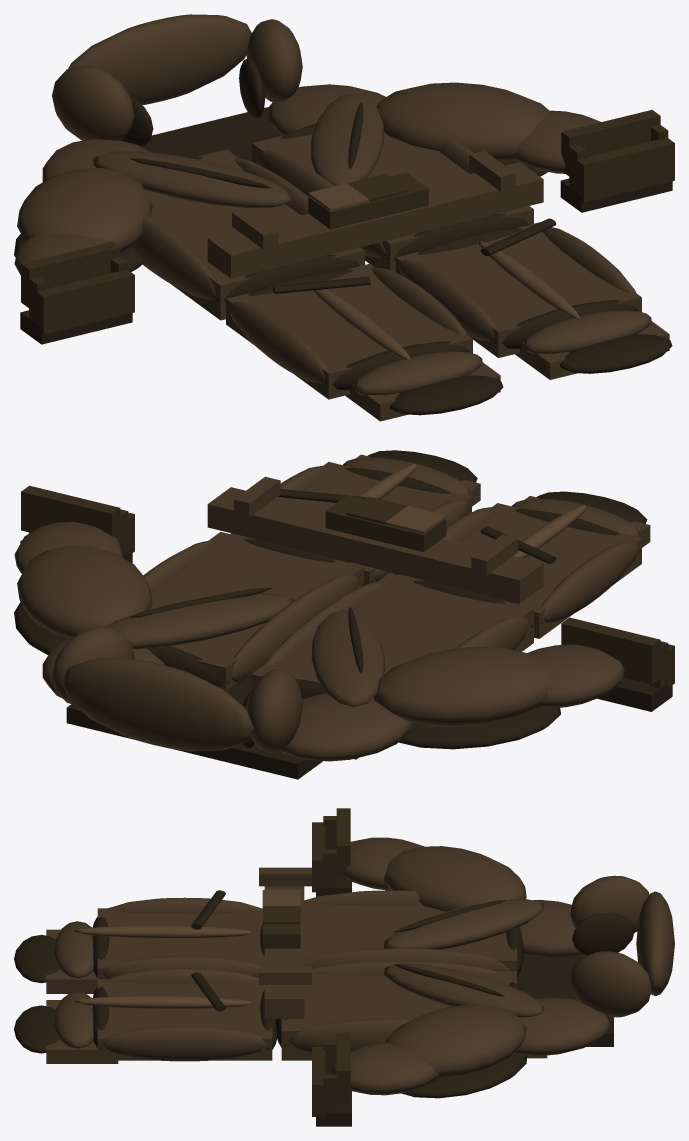
Rendered from CMU3DCivilianBrownTrenchCoatWorldCloud.glb.
3 views of the same model, one above another, from view 1: azimuth 30°, elevation 25°; view 2: azimuth 150°, elevation 25°; view 3: azimuth 270°, elevation 25° (orthographic). The views are drawn at different scales.
Parts seen in each view (by area): view 1: waist belt, rear collar roll, left long skirt cloth face, right long skirt cloth face, right soft upper sleeve, left soft upper sleeve, left chest cloth face, left broad folded lapel, right chest cloth face, left standing collar, right broad folded lapel, left cuff outer bottom fold (+41 smaller); view 2: rear collar roll, waist belt, left soft upper sleeve, left chest cloth face, right chest cloth face, right soft upper sleeve, left connected shoulder yoke, right broad folded lapel, left long skirt cloth face, left broad folded lapel, left outward forearm fold, right chest side fold left (+36 smaller); view 3: right soft upper sleeve, right long skirt cloth face, left soft upper sleeve, right chest cloth face, left chest cloth face, left long skirt cloth face, right long skirt side fold right, left broad folded lapel, right standing collar, right broad folded lapel, right connected shoulder yoke, right outward forearm fold (+37 smaller).
Part boxes in pixels (left/top/right/bottom): waist belt: left=207, top=162, right=543, bottom=278; rear collar roll: left=68, top=14, right=251, bottom=105; left long skirt cloth face: left=226, top=263, right=472, bottom=399; right long skirt cloth face: left=396, top=222, right=641, bottom=357; right soft upper sleeve: left=376, top=82, right=549, bottom=161; left soft upper sleeve: left=17, top=168, right=152, bottom=252; left chest cloth face: left=144, top=149, right=364, bottom=320; left broad folded lapel: left=92, top=151, right=291, bottom=207; right chest cloth face: left=252, top=132, right=533, bottom=272; left standing collar: left=52, top=65, right=134, bottom=140; right broad folded lapel: left=310, top=93, right=383, bottom=185; left cuff outer bottom fold: left=36, top=270, right=134, bottom=334; rear collar roll: left=61, top=658, right=254, bottom=751; waist belt: left=207, top=487, right=543, bottom=603; left soft upper sleeve: left=374, top=646, right=549, bottom=727; left chest cloth face: left=251, top=573, right=533, bottom=689; right chest cloth face: left=150, top=532, right=363, bottom=690; right soft upper sleeve: left=17, top=546, right=152, bottom=637; left connected shoulder yoke: left=280, top=693, right=412, bottom=761; right broad folded lapel: left=105, top=593, right=293, bottom=648; left long skirt cloth face: left=399, top=503, right=641, bottom=638; left broad folded lapel: left=311, top=610, right=384, bottom=706; left outward forearm fold: left=527, top=644, right=624, bottom=708; right chest side fold left: left=230, top=574, right=360, bottom=682; right soft upper sleeve: left=385, top=1005, right=526, bottom=1078; right long skirt cloth face: left=97, top=979, right=272, bottom=1060; left soft upper sleeve: left=383, top=846, right=526, bottom=911; right chest cloth face: left=281, top=971, right=516, bottom=1060; left chest cloth face: left=304, top=902, right=516, bottom=971; left long skirt cloth face: left=97, top=908, right=264, bottom=978; right long skirt side fold right: left=103, top=1026, right=266, bottom=1061; left broad folded lapel: left=383, top=899, right=543, bottom=949; right standing collar: left=570, top=951, right=651, bottom=1017; right broad folded lapel: left=383, top=963, right=543, bottom=1017; right connected shoulder yoke: left=515, top=997, right=610, bottom=1055; right outward forearm fold: left=331, top=1042, right=438, bottom=1095.
Bounding box in the file's own units: 0.5112 × 0.084 × 0.5441.
5 materials, 1 textured.
